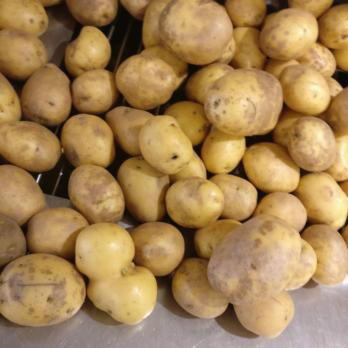Solid potato: (145, 2, 348, 289), (0, 0, 114, 328), (75, 223, 193, 322)
